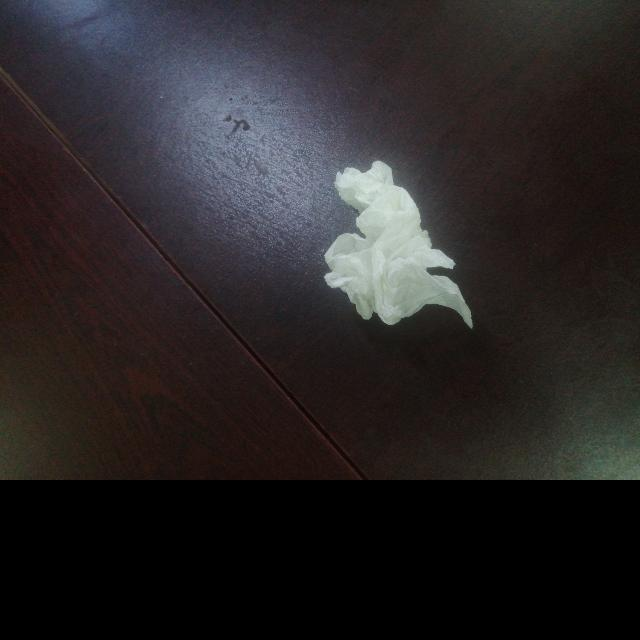kitchen paper: (321, 156, 480, 344)
